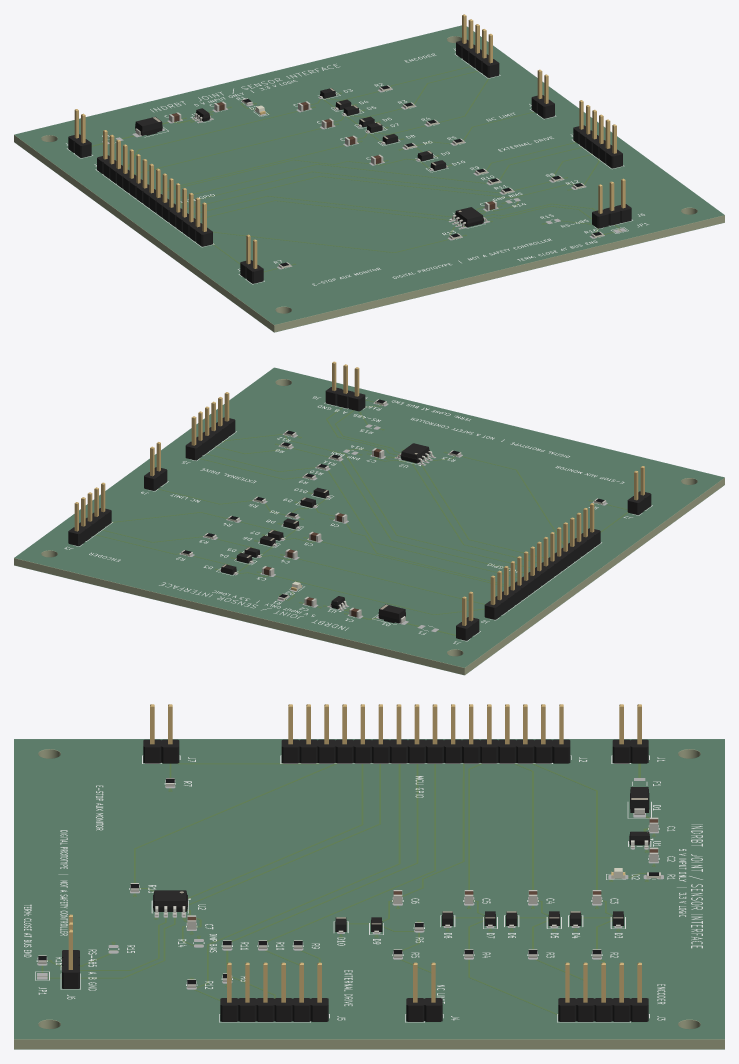
The model's file is indrbt-joint-interface.glb.
3 renders of one model, top to bottom at view 1: azimuth 30°, elevation 25°; view 2: azimuth 150°, elevation 25°; view 3: azimuth 270°, elevation 25°, orthographic. The views are drawn at different scales.
Visible parts, largest first — view 1: =>[0:1:1:30], =>[0:1:1:32], =>[0:1:1:9], =>[0:1:1:29], =>[0:1:1:13] (×3), =>[0:1:1:23], =>[0:1:1:25], =>[0:1:1:17], =>[0:1:1:27], =>[0:1:1:31]; view 2: =>[0:1:1:30], =>[0:1:1:32], =>[0:1:1:9], =>[0:1:1:29], =>[0:1:1:13] (×3), =>[0:1:1:23], =>[0:1:1:25], =>[0:1:1:17], =>[0:1:1:27], =>[0:1:1:26], =>[0:1:1:31], =>[0:1:1:11]; view 3: =>[0:1:1:30], =>[0:1:1:32], =>[0:1:1:9], =>[0:1:1:29], =>[0:1:1:13] (×3), =>[0:1:1:23], =>[0:1:1:25], =>[0:1:1:26], =>[0:1:1:27], =>[0:1:1:17], =>[0:1:1:11], =>[0:1:1:31].
Boxes of the visible parts, x1,y1,x2,y2 form: =>[0:1:1:30]: (14,25,724,324); =>[0:1:1:32]: (14,26,724,332); =>[0:1:1:9]: (97,130,212,246); =>[0:1:1:29]: (66,48,648,285); =>[0:1:1:13] (×3): (68,69,554,283); =>[0:1:1:23]: (573,100,622,168); =>[0:1:1:25]: (456,14,499,77); =>[0:1:1:17]: (592,178,631,228); =>[0:1:1:27]: (102,88,626,269); =>[0:1:1:31]: (14,142,724,332); =>[0:1:1:30]: (14,367,724,667); =>[0:1:1:32]: (14,368,724,675); =>[0:1:1:9]: (484,503,600,619); =>[0:1:1:29]: (64,396,652,644); =>[0:1:1:13] (×3): (144,442,651,640); =>[0:1:1:23]: (185,392,235,460); =>[0:1:1:25]: (68,482,111,545); =>[0:1:1:17]: (325,361,365,411); =>[0:1:1:27]: (179,402,607,631); =>[0:1:1:26]: (98,400,626,635); =>[0:1:1:31]: (14,485,724,675); =>[0:1:1:11]: (396,443,434,464); =>[0:1:1:30]: (14,739,724,1039); =>[0:1:1:32]: (14,740,724,1049); =>[0:1:1:9]: (281,704,570,763); =>[0:1:1:29]: (24,755,702,1022); =>[0:1:1:13] (×3): (143,704,648,1021); =>[0:1:1:23]: (220,962,328,1021); =>[0:1:1:25]: (558,962,648,1021); =>[0:1:1:26]: (42,764,654,1014); =>[0:1:1:27]: (37,778,663,989); =>[0:1:1:17]: (62,914,79,988); =>[0:1:1:11]: (153,890,187,915); =>[0:1:1:31]: (14,1049,724,1049).
Bounding box in the file's own units: 0.1 × 0.0115 × 0.1.
